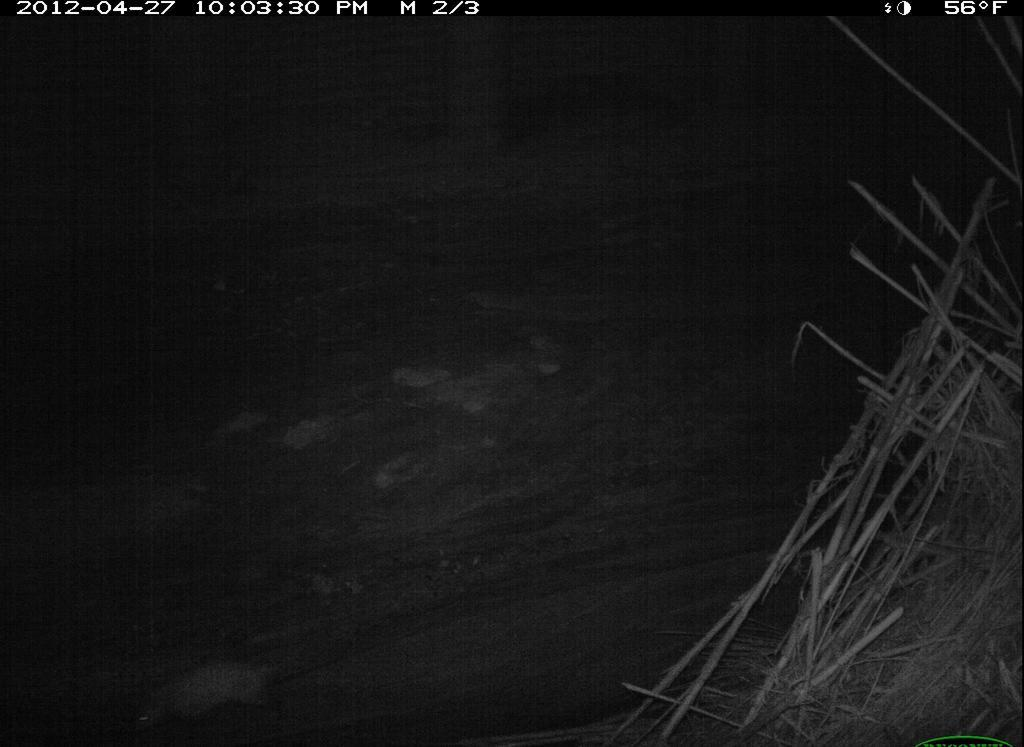opossum: (128, 651, 303, 740)
